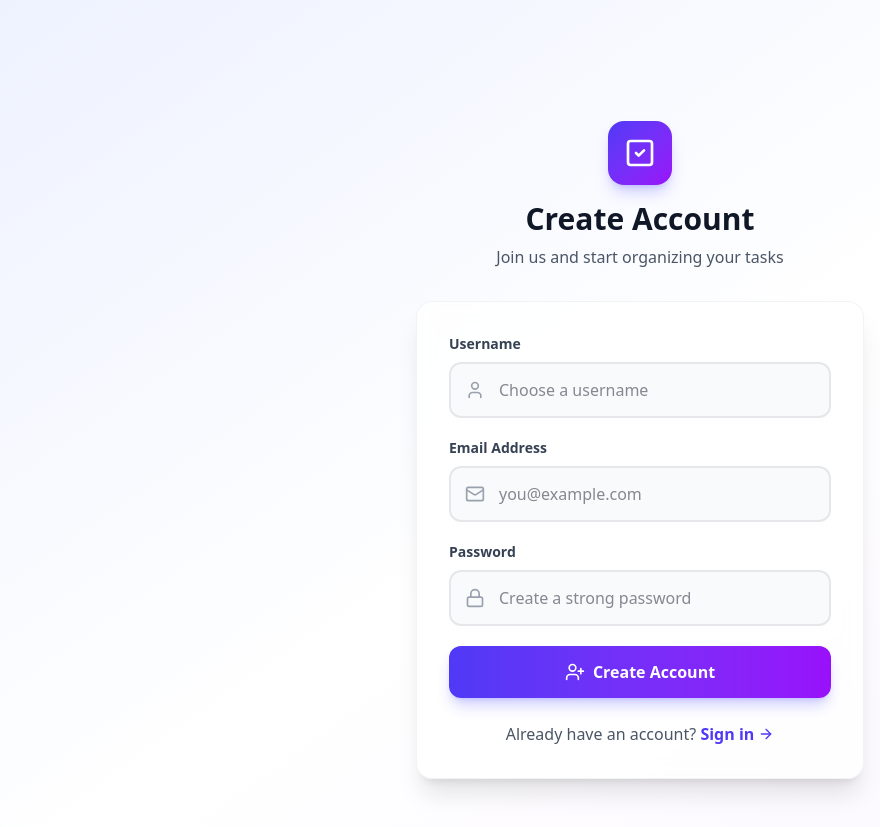
Test: SignUp Component › should show validation error for password too short
Step 1. Type "testuser" into the field with placeholder "Choose a username" → (640, 390), box [449, 362, 831, 418]
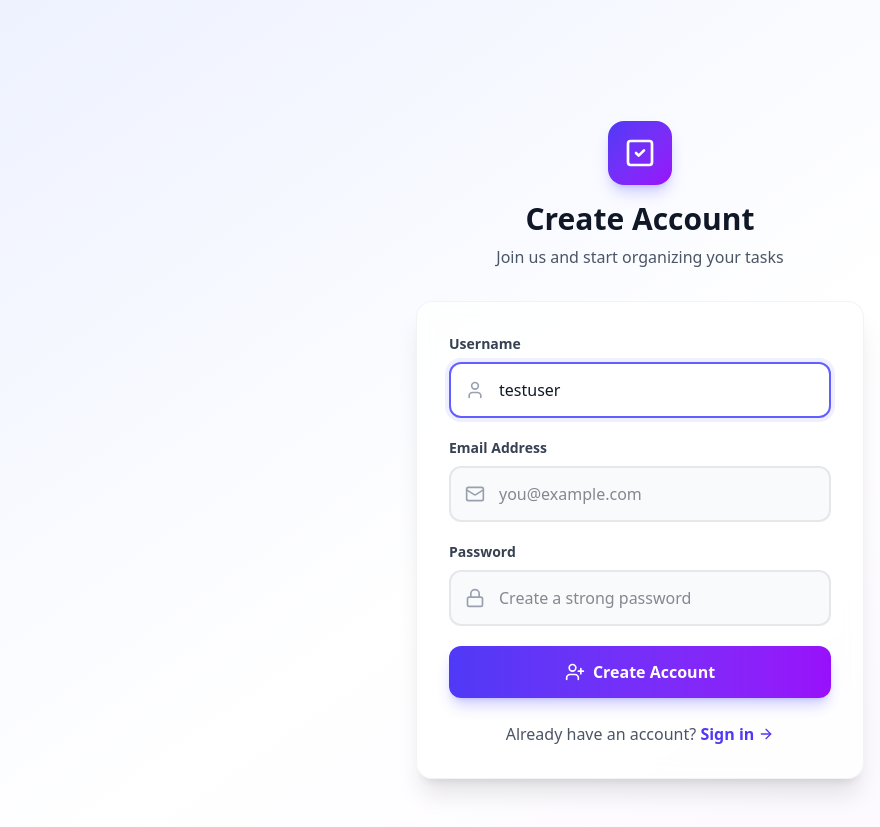
Step 2. Type "test@example.com" into the field with placeholder "you@example.com" → (640, 494), box [449, 466, 831, 522]
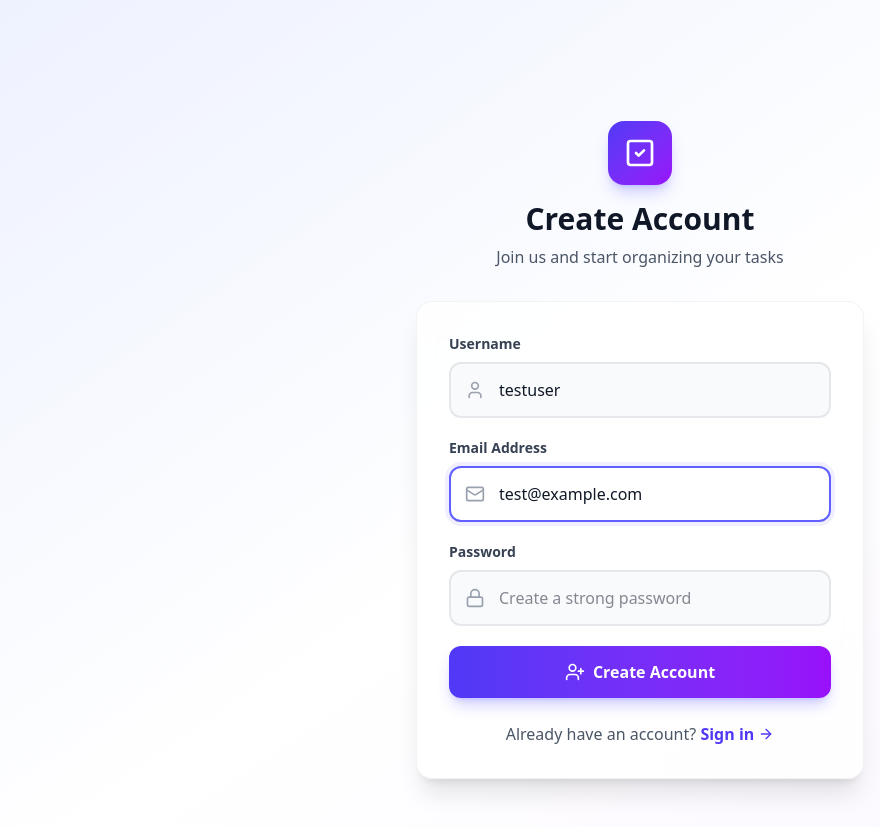
Step 3. Type "pass" into the password field with placeholder "Create a strong password" → (640, 598), box [449, 570, 831, 626]
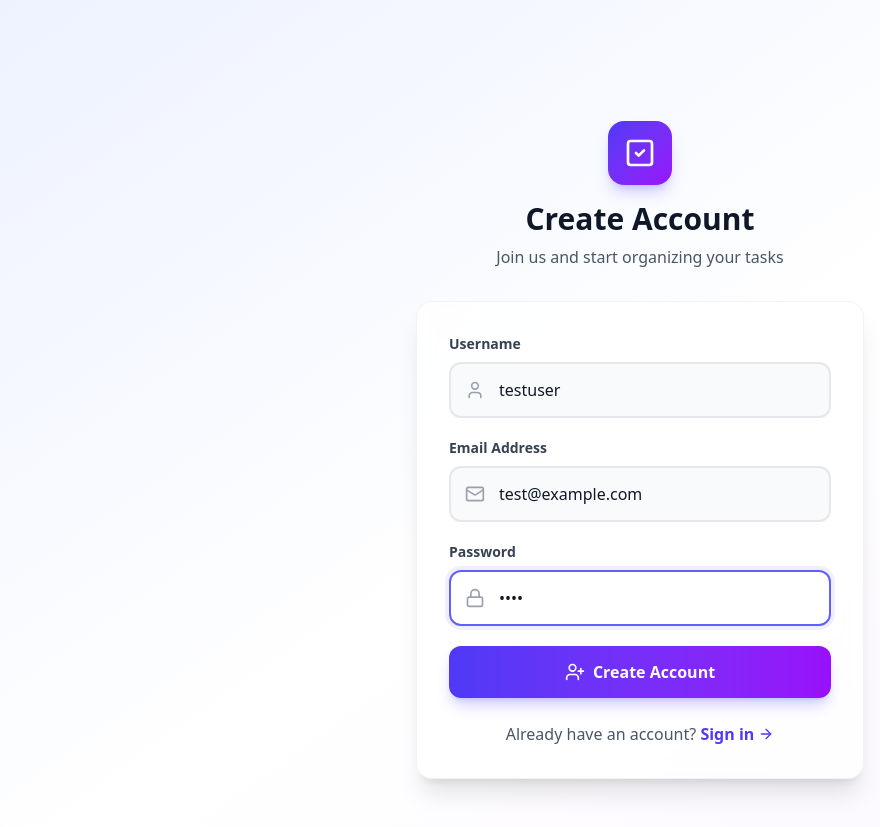
Step 4. Click the button "Create Account" → click(640, 672), box [449, 646, 831, 698]
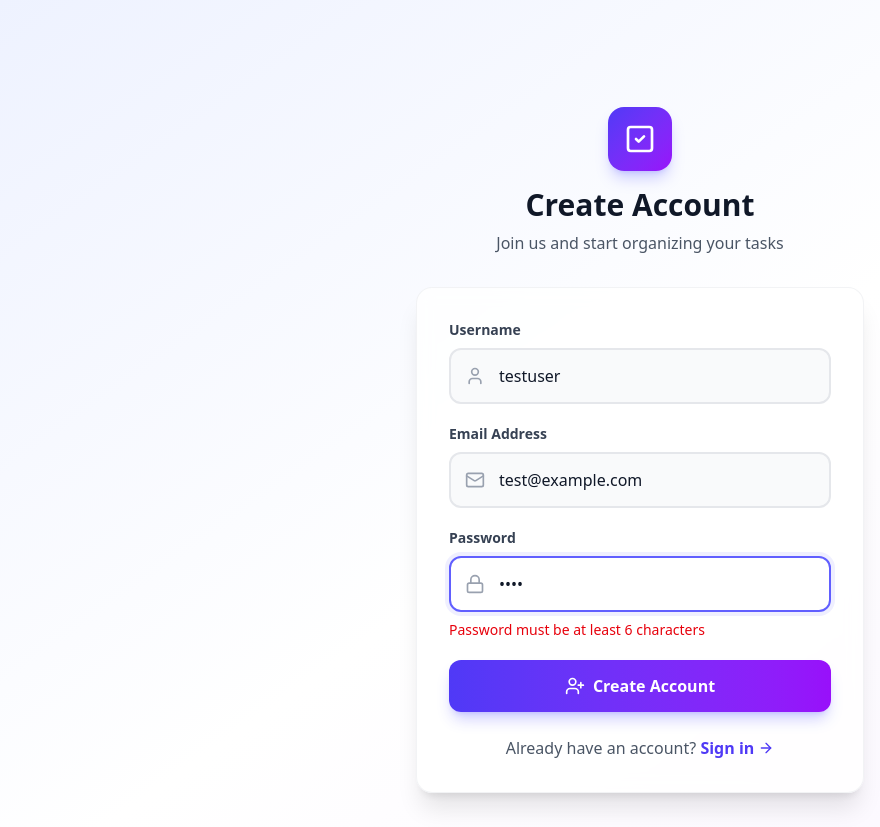
Now the text "Password must be at least 6 characters" is shown, box [449, 620, 705, 639]
